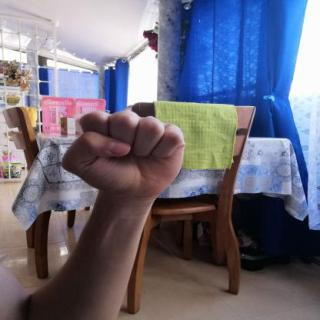SAD: (50, 100, 200, 206)
